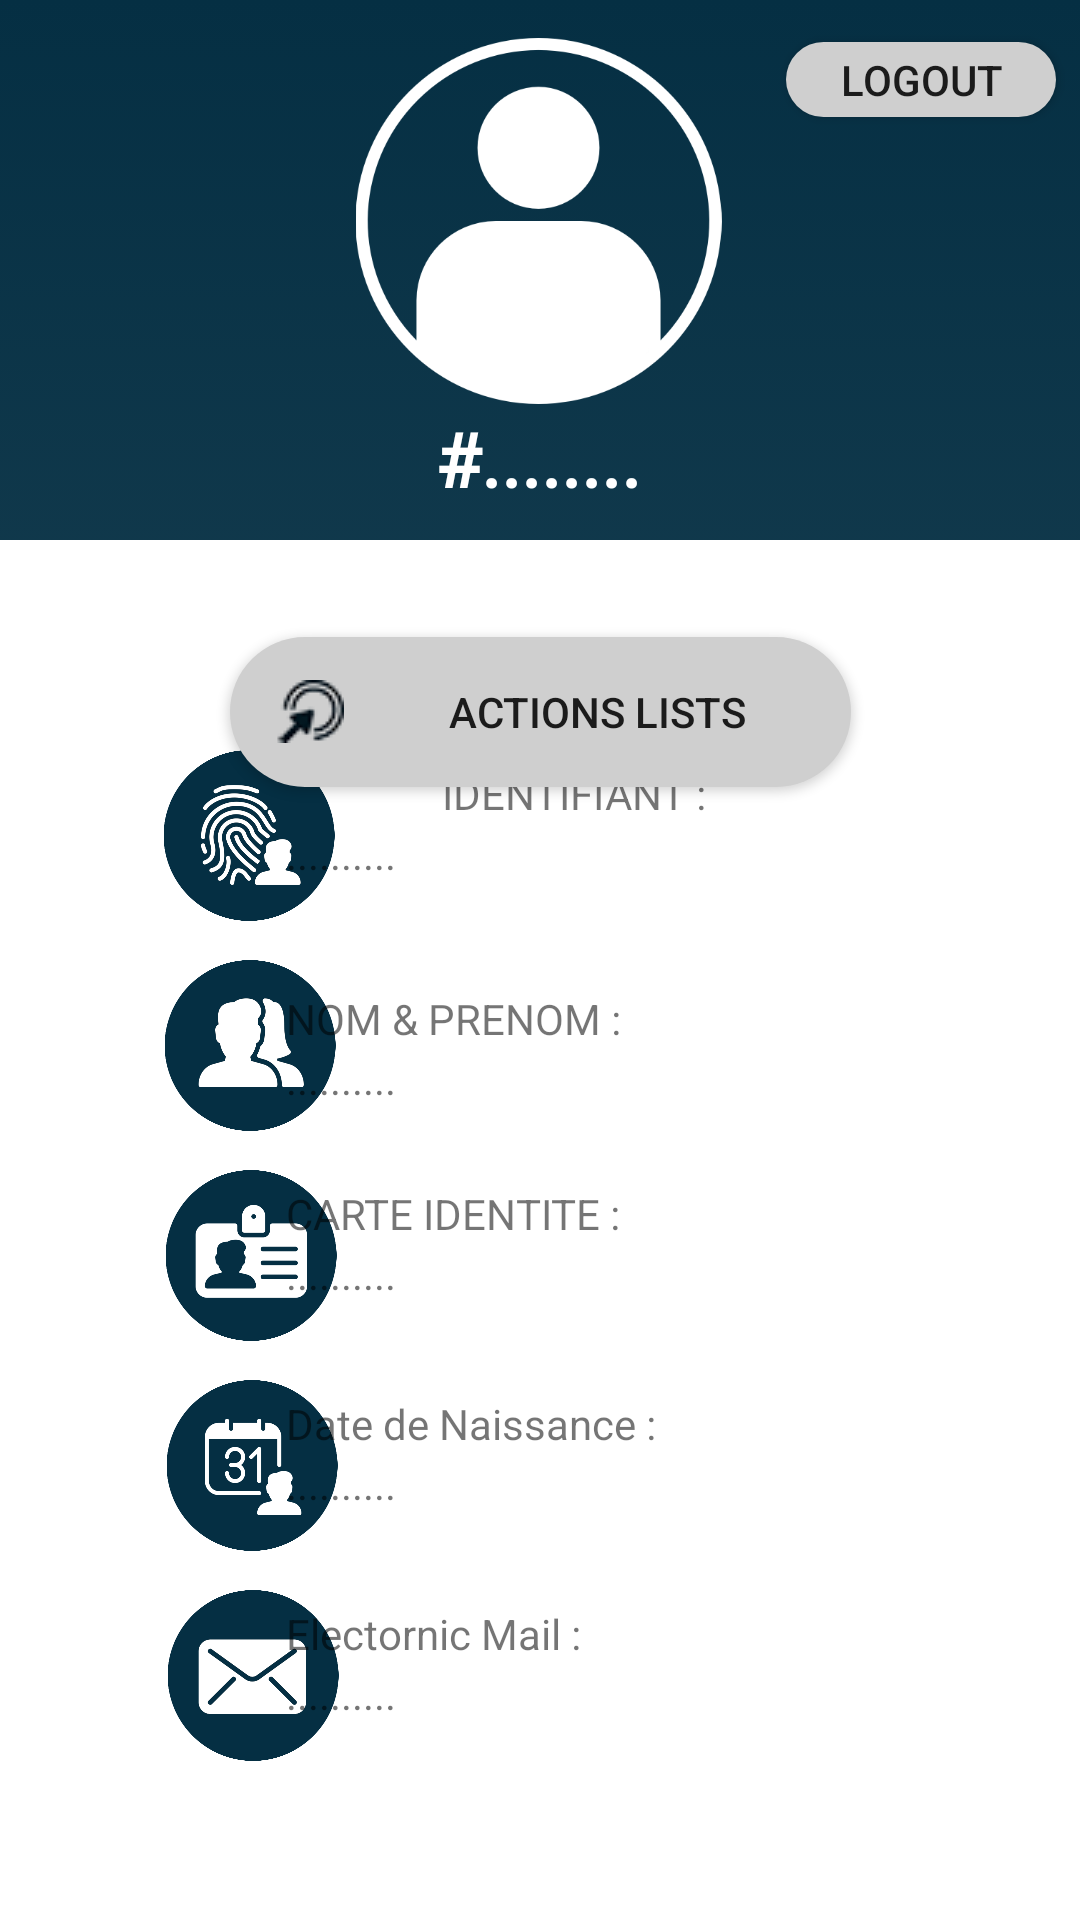

Named icons in this screenshot (1080px x 1920px) and their bounding boxes, (x1, y1, x2, y2):
profile email: (168, 1590, 349, 1761)
profile id: (164, 750, 348, 921)
